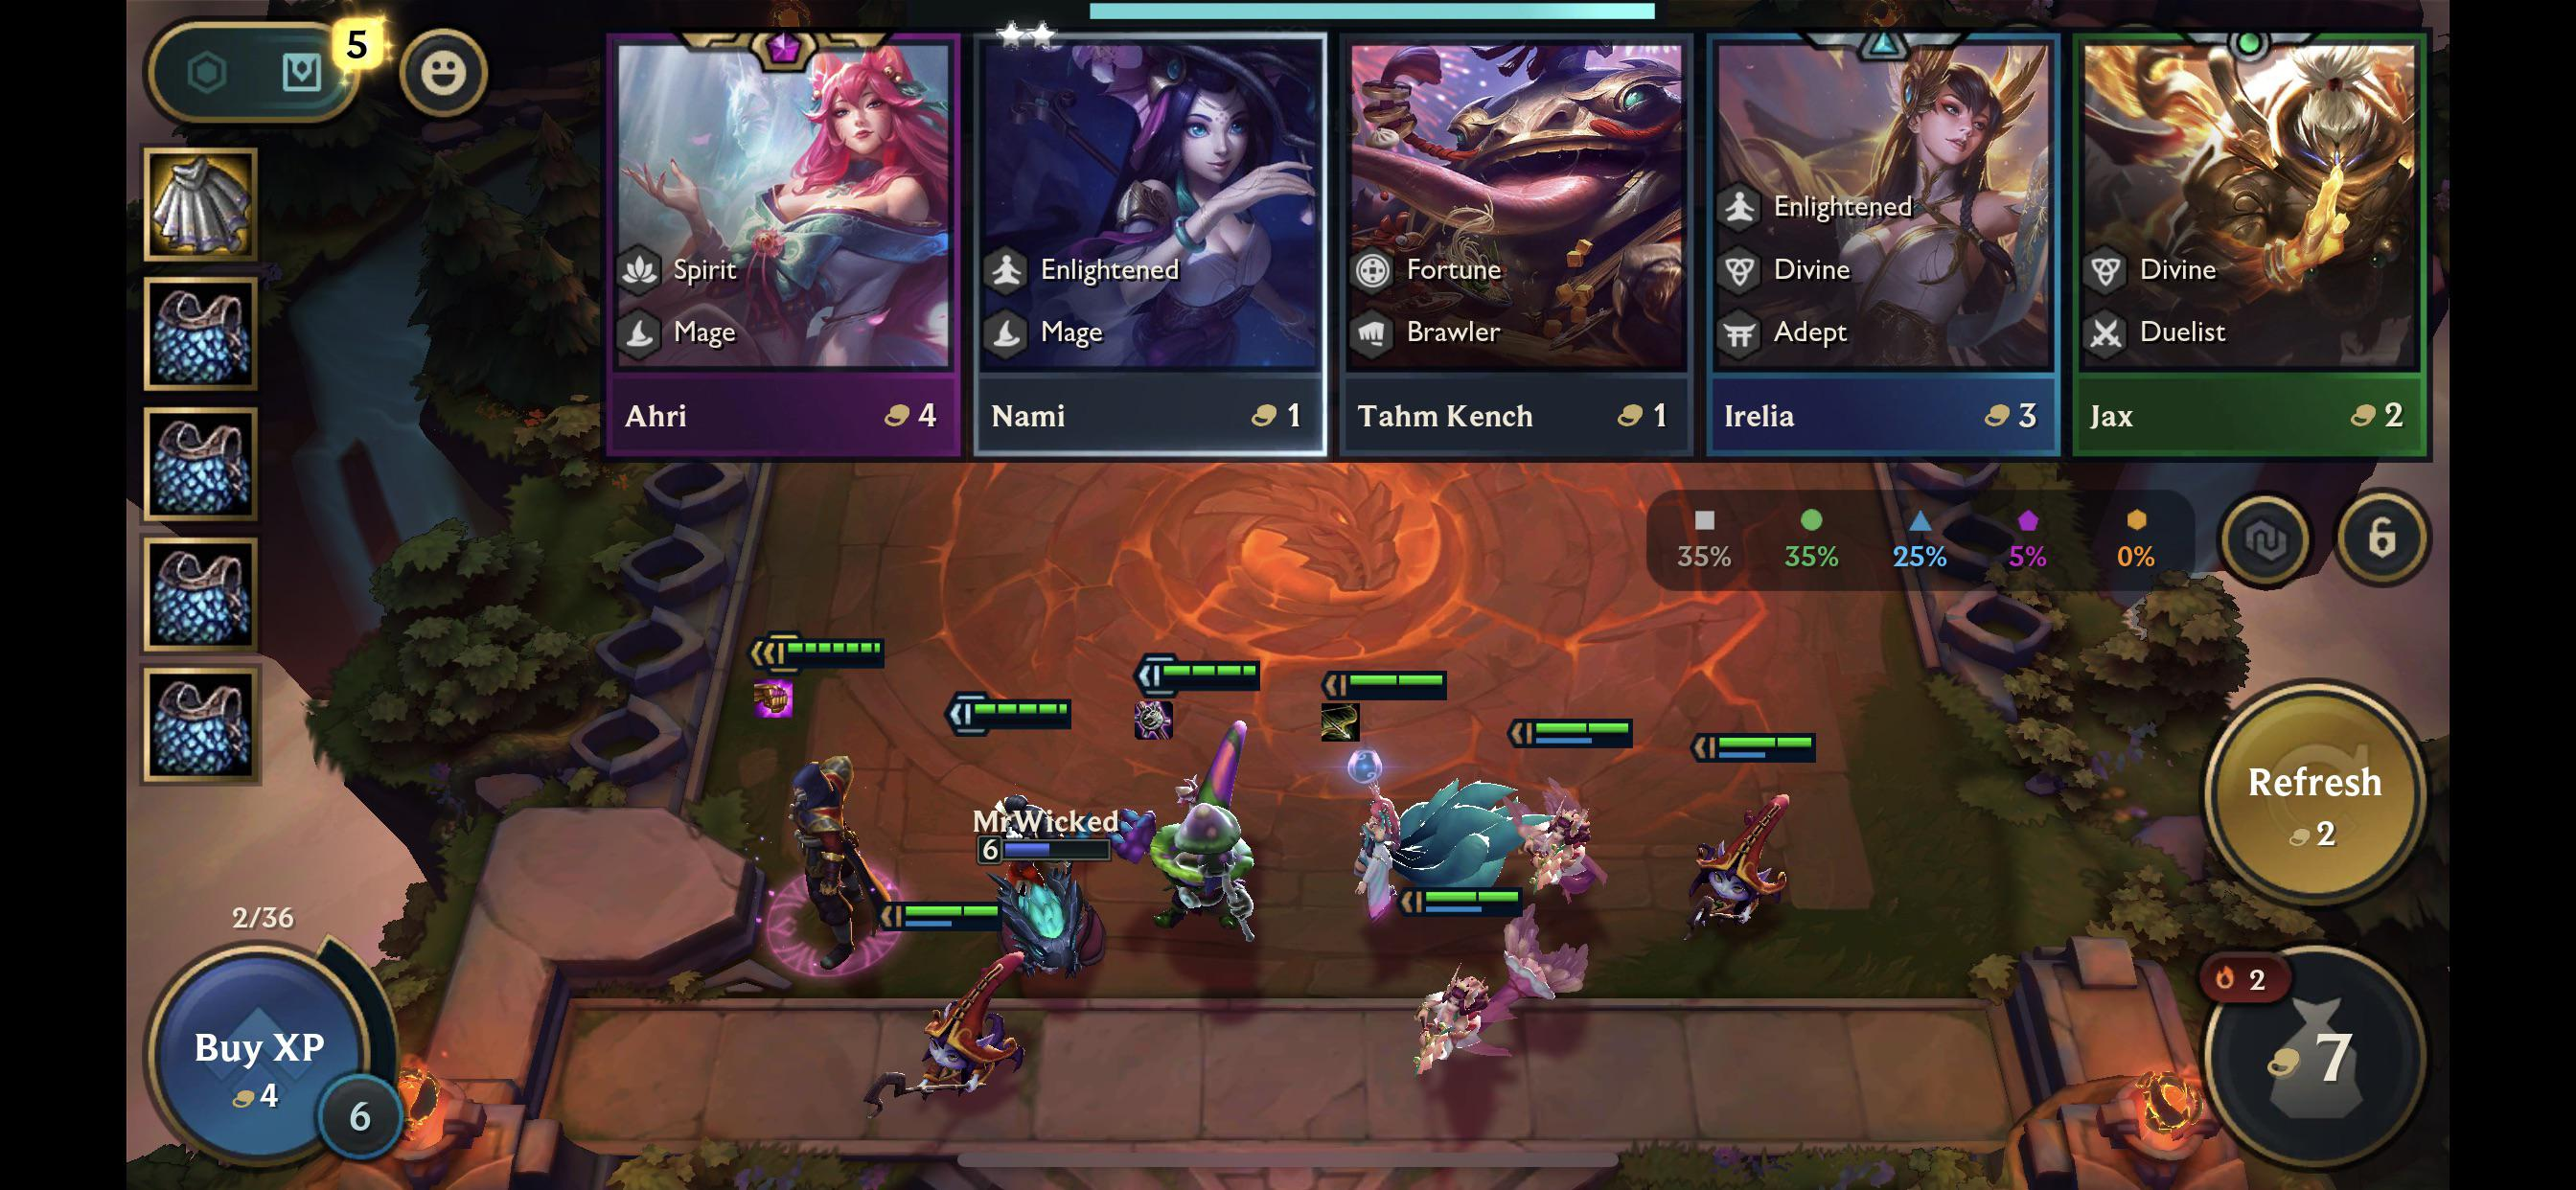1star_ahri: (1291, 653, 1594, 975)
1star_lulu: (1654, 718, 1855, 962), (853, 891, 1051, 1134)
1star_nami: (1377, 873, 1630, 1129), (1451, 692, 1704, 948)
2star_veigar: (1102, 631, 1296, 1019)
3star_twistedfate: (721, 597, 933, 1004)
3star_twistedfate_chosen: (720, 593, 931, 1003)
item_bow: (1313, 697, 1367, 743)
item_chain: (148, 279, 260, 391), (145, 667, 256, 779), (146, 408, 256, 519), (145, 539, 255, 651)
item_jeweledgauntlet: (749, 674, 802, 720)
item_negatron: (146, 151, 256, 258)
item_rod: (1124, 695, 1176, 743)
